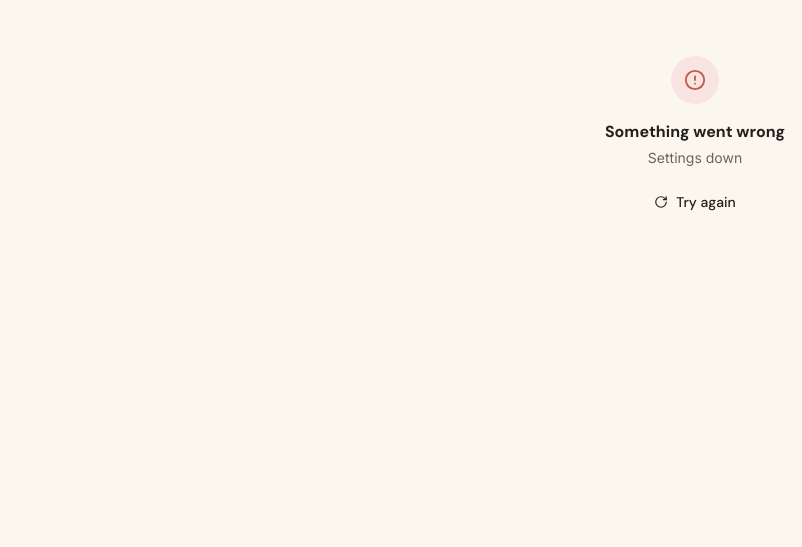
Notification settings › shows an error with retry when settings cannot be loaded
Expected: the text "Settings down" is shown, left=648, top=148, right=742, bottom=168
Click the button "Try again".
click(695, 202)  # box left=642, top=184, right=748, bottom=220
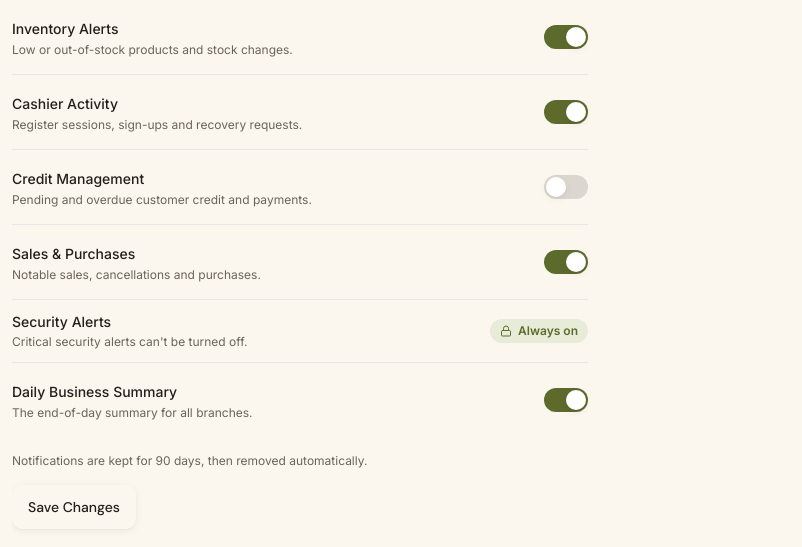
Now the list named "Notification categories" is shown, box left=12, top=0, right=588, bottom=437
